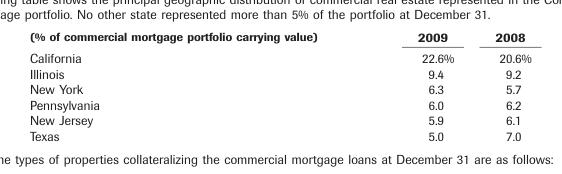table: (28, 28, 530, 142)
table column: (28, 28, 366, 142), (366, 28, 473, 142), (473, 28, 530, 142)
table column header: (28, 28, 530, 47)
table row: (28, 28, 530, 47), (28, 47, 530, 65), (28, 80, 530, 96), (28, 111, 530, 127), (28, 65, 530, 80), (28, 96, 530, 111), (28, 127, 530, 142)
